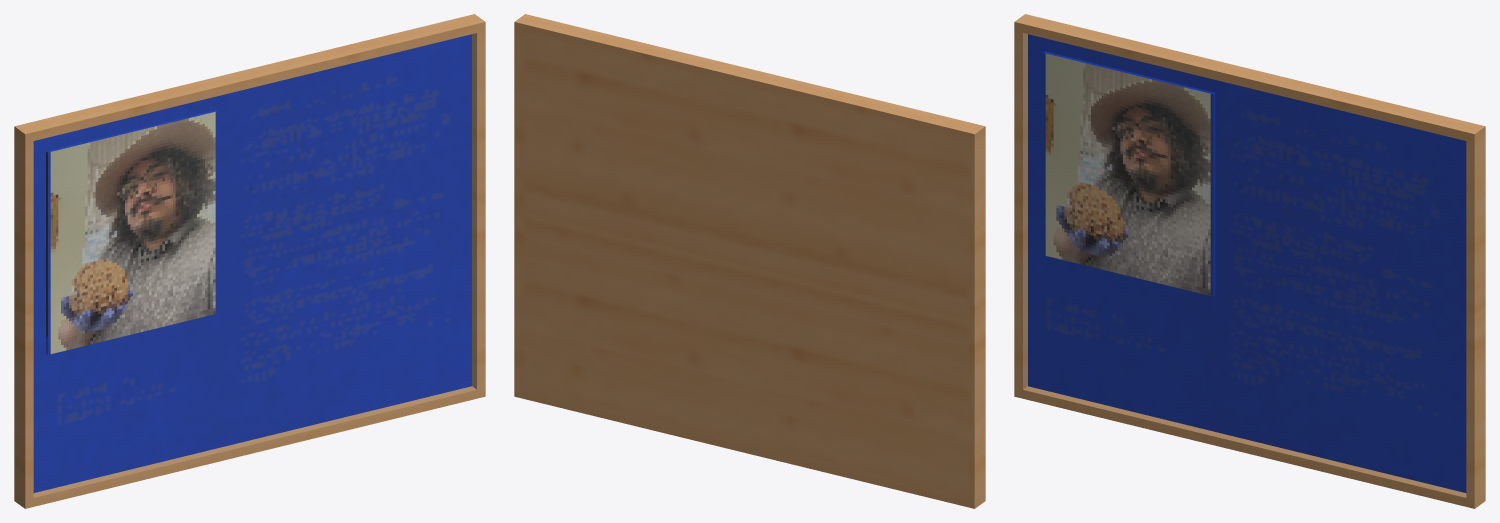
Rendered from corksBoard.glb.
3 renders of one model, left to right at view 1: azimuth 30°, elevation 25°; view 2: azimuth 150°, elevation 25°; view 3: azimuth 330°, elevation 25°, orthographic.
Size of what is drawn, in the model's own units: 0.027 by 0.021 by 0.0011.
Materials: 4 (4 with a texture image).
